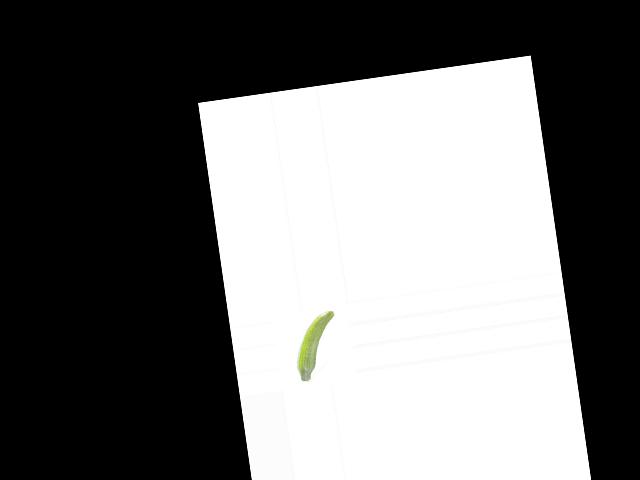cucumber: (290, 310, 344, 383)
